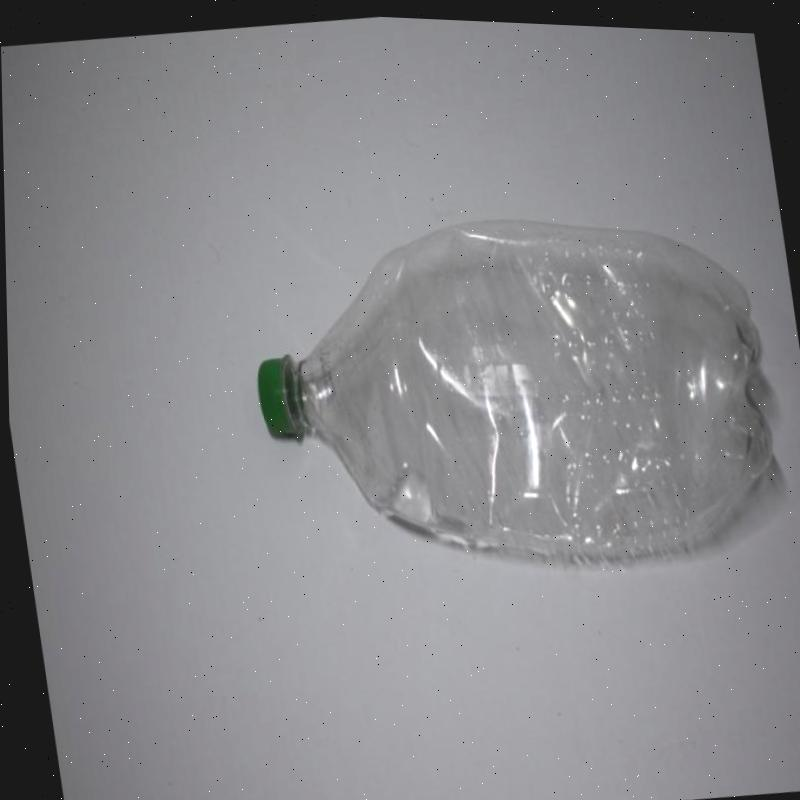botella: (235, 175, 796, 612)
